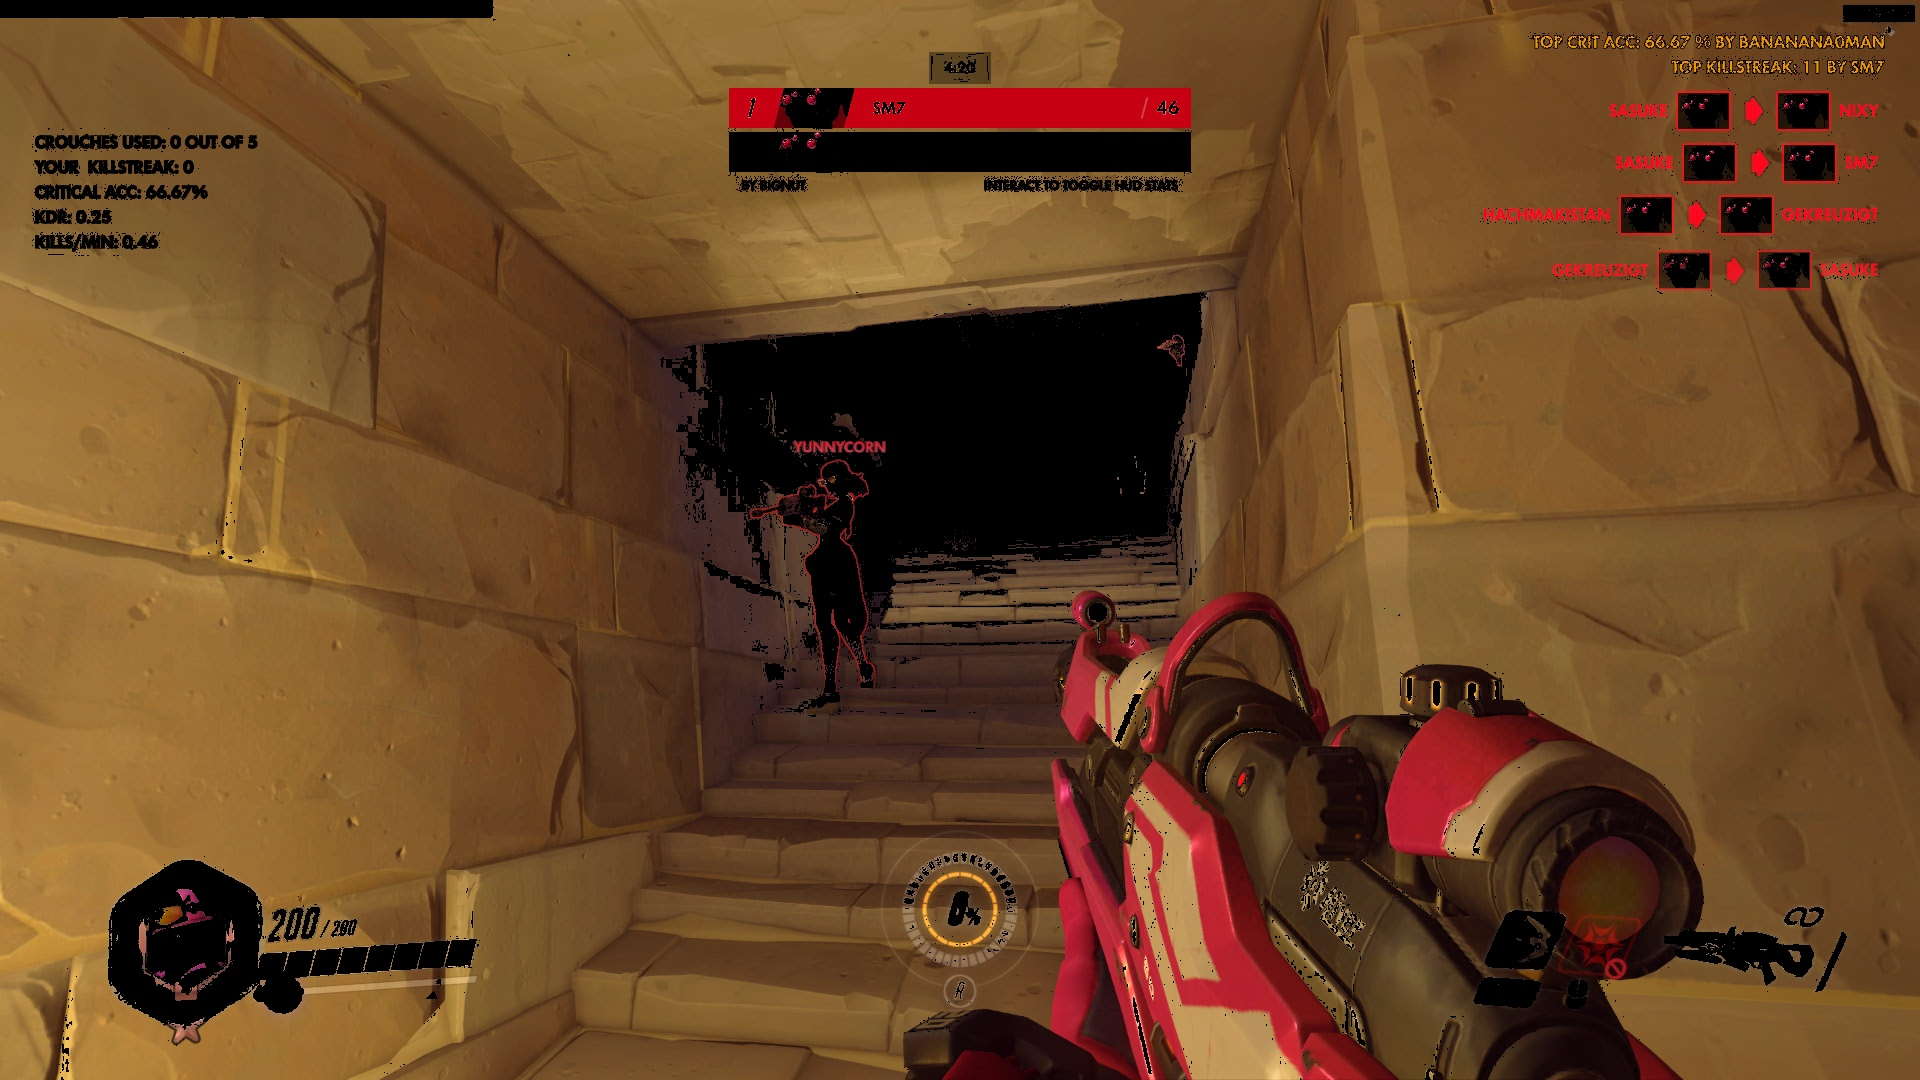widowmaker: (789, 459, 891, 711)
